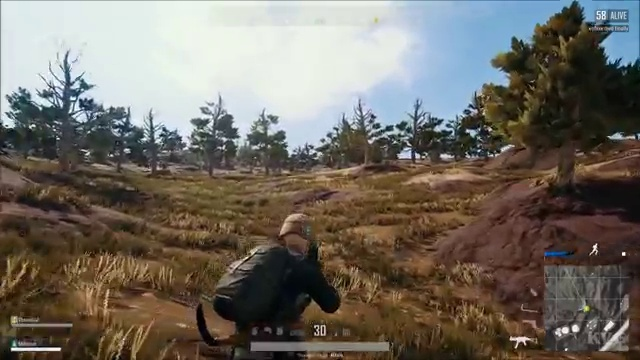Player: (190, 204, 355, 321)
